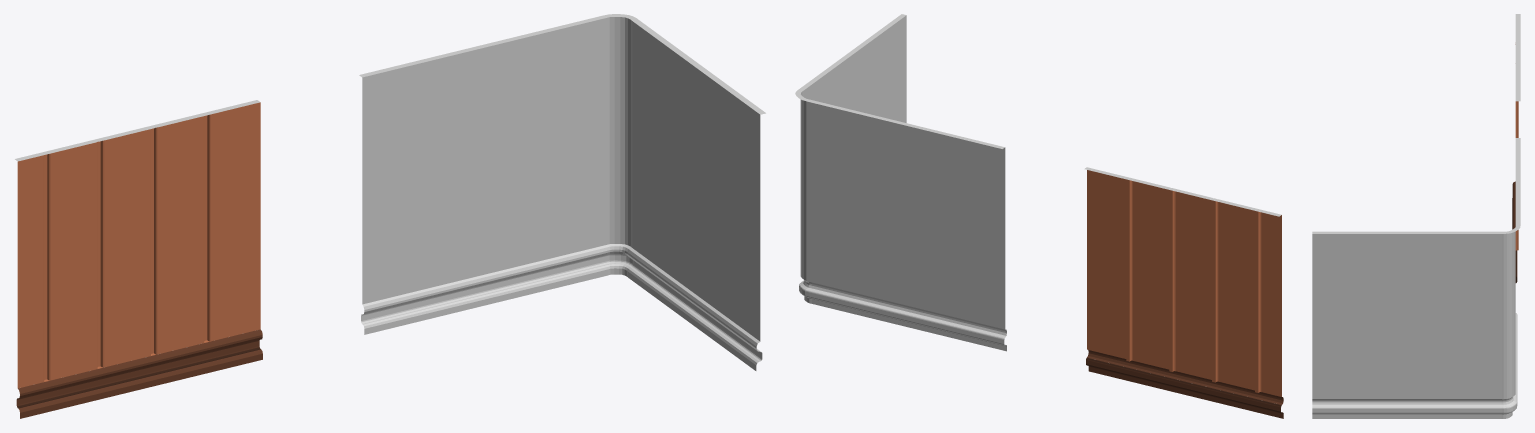
File: ParedeRodape.fbx
3 views of the same model, side by side, from view 1: azimuth 30°, elevation 25°; view 2: azimuth 150°, elevation 25°; view 3: azimuth 270°, elevation 25° (orthographic). The views are drawn at different scales.
Visible parts, largest first — view 1: ParedeRodape_LoPo; view 2: ParedeRodape_LoPo; view 3: ParedeRodape_LoPo.
Boxes of the visible parts, <box> form: ParedeRodape_LoPo: <box>15,14,765,418</box>; ParedeRodape_LoPo: <box>795,14,1283,418</box>; ParedeRodape_LoPo: <box>1312,14,1520,418</box>.
Bounding box in the file's own units: 2000 × 800 × 800.
